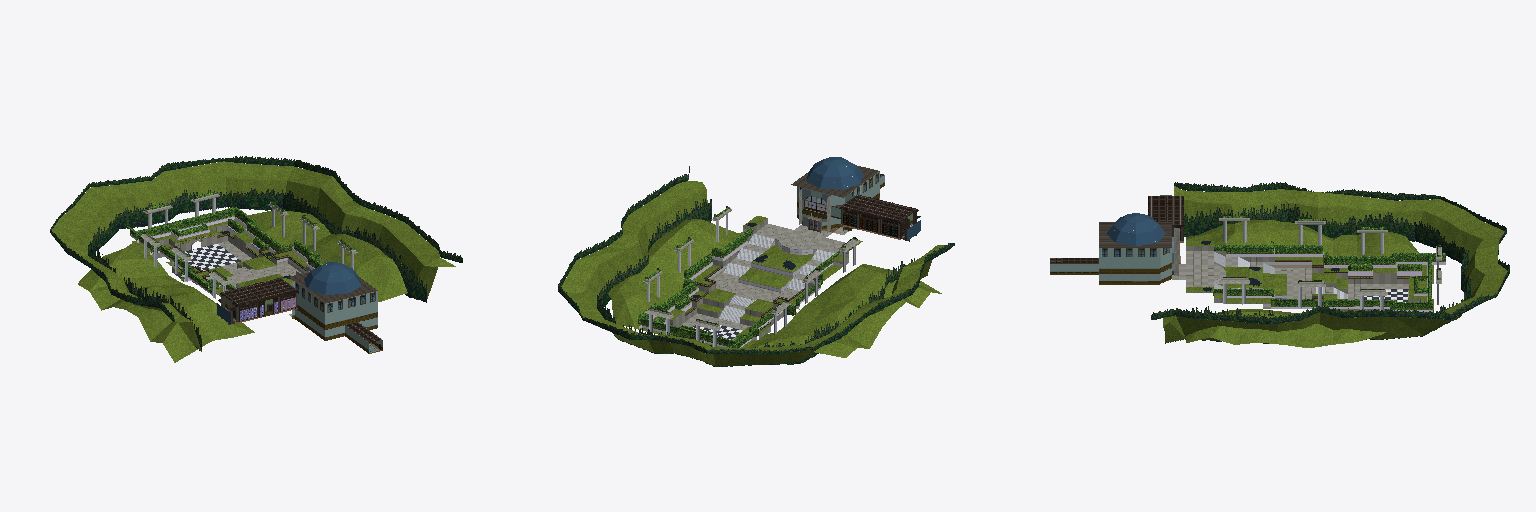
3 renders of one model, left to right at view 1: azimuth 30°, elevation 25°; view 2: azimuth 150°, elevation 25°; view 3: azimuth 270°, elevation 25°, orthographic.
Visible parts, largest first — view 1: common155Shape_026, common155Shape_028, common155Shape_027, common155Shape_008, common155Shape_015, common155Shape_021, common155Shape_016, common155Shape_010, common155Shape_003, common155Shape_009, r4b_track3Shape_000, common155Shape_018 (+1 smaller); view 2: common155Shape_026, common155Shape_028, common155Shape_027, common155Shape_021, common155Shape_015, r4b_track5Shape_000, common155Shape_010, common155Shape_016, common155Shape_008, common155Shape_003, common155Shape_024, r4b_track3Shape_000 (+6 smaller); view 3: common155Shape_026, common155Shape_028, common155Shape_027, common155Shape_008, common155Shape_021, common155Shape_015, common155Shape_010, common155Shape_018, common155Shape_003, r4b_track5Shape_000, common155Shape_016, common155Shape_024 (+4 smaller).
Boxes of the visible parts, <box> form: common155Shape_026: <box>51,161,455,362</box>; common155Shape_028: <box>50,156,462,350</box>; common155Shape_027: <box>127,191,354,292</box>; common155Shape_008: <box>292,271,382,353</box>; common155Shape_015: <box>218,278,381,342</box>; common155Shape_021: <box>217,262,361,323</box>; common155Shape_016: <box>169,233,377,324</box>; common155Shape_010: <box>151,224,311,292</box>; common155Shape_003: <box>141,196,356,298</box>; common155Shape_009: <box>295,282,377,314</box>; r4b_track3Shape_000: <box>227,263,298,287</box>; common155Shape_018: <box>130,217,313,295</box>; common155Shape_026: <box>561,181,949,366</box>; common155Shape_028: <box>558,166,954,366</box>; common155Shape_027: <box>637,206,857,347</box>; common155Shape_021: <box>806,157,920,240</box>; common155Shape_015: <box>839,174,920,237</box>; r4b_track5Shape_000: <box>739,245,813,288</box>; common155Shape_010: <box>665,218,848,338</box>; common155Shape_016: <box>671,166,916,324</box>; common155Shape_008: <box>797,175,884,231</box>; common155Shape_003: <box>645,210,859,346</box>; common155Shape_024: <box>640,189,858,344</box>; r4b_track3Shape_000: <box>713,277,794,301</box>; common155Shape_026: <box>1163,186,1507,347</box>; common155Shape_028: <box>1151,182,1509,343</box>; common155Shape_027: <box>1213,215,1445,309</box>; common155Shape_008: <box>1050,248,1173,284</box>; common155Shape_021: <box>1107,213,1165,245</box>; common155Shape_015: <box>1050,196,1183,263</box>; common155Shape_010: <box>1186,246,1433,310</box>; common155Shape_018: <box>1226,254,1445,311</box>; common155Shape_003: <box>1223,221,1438,310</box>; r4b_track5Shape_000: <box>1218,267,1286,294</box>; common155Shape_016: <box>1099,196,1409,305</box>; common155Shape_024: <box>1174,218,1441,310</box>.
Bounding box in the file's own units: 218 × 61.5 × 301.
Materials: 34 (32 with a texture image).